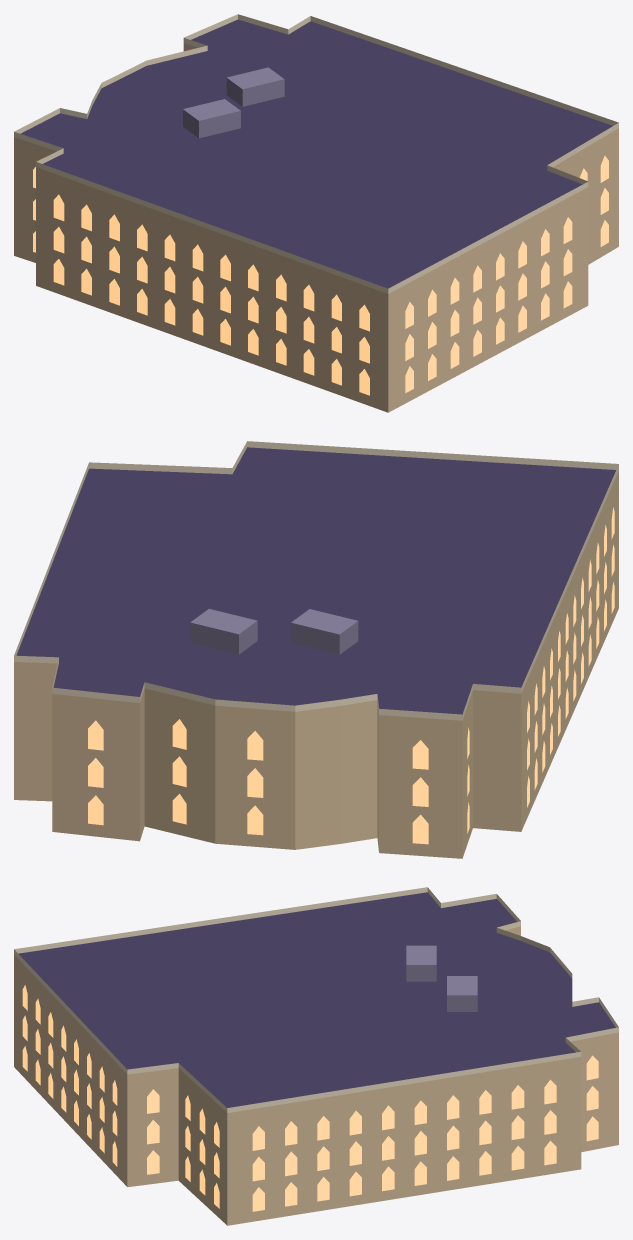
File: b-081-taylor-library.glb
The picture shows the model from 3 angles, top to bottom: view 1: azimuth 30°, elevation 25°; view 2: azimuth 150°, elevation 25°; view 3: azimuth 270°, elevation 25°; orthographic projection. The views are drawn at different scales.
Visible parts, largest first — view 1: campus/b-081-taylor-library-0; view 2: campus/b-081-taylor-library-0; view 3: campus/b-081-taylor-library-0.
Boxes of the visible parts, x1=… form: campus/b-081-taylor-library-0: x1=14, y1=14, x2=618, y2=412; campus/b-081-taylor-library-0: x1=14, y1=441, x2=618, y2=858; campus/b-081-taylor-library-0: x1=14, y1=887, x2=618, y2=1225.
Size of the model in its own units: 51.31 by 14 by 59.38.
